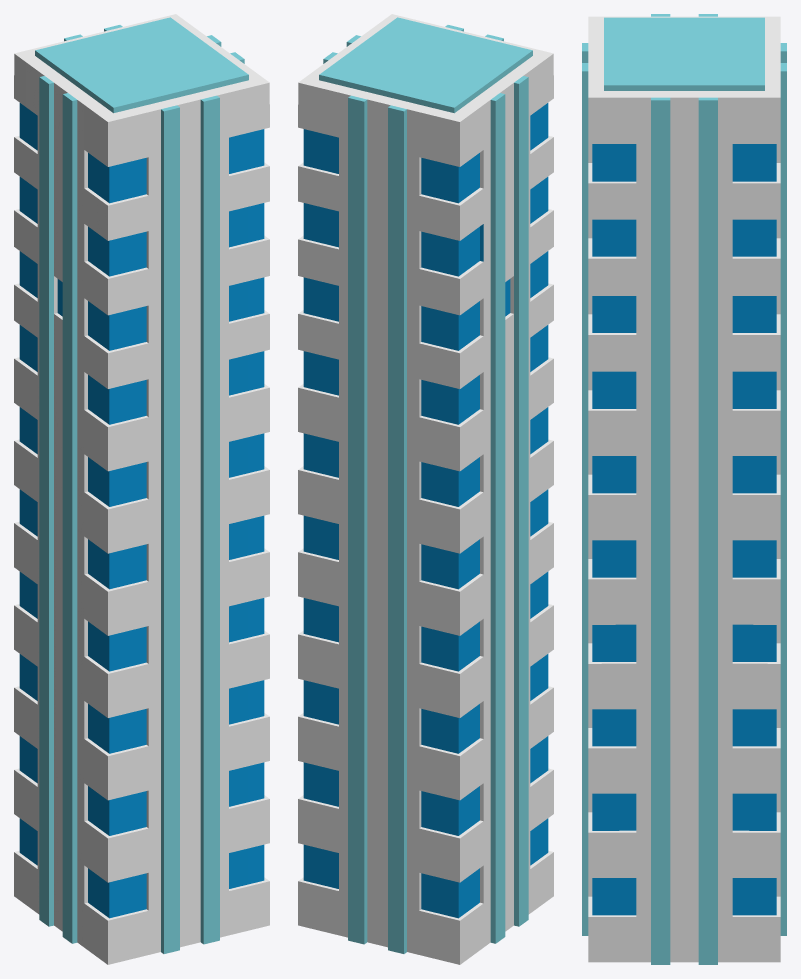
The model's file is Skyscrapper1.fbx.
The picture shows the model from 3 angles, left to right: view 1: azimuth 30°, elevation 25°; view 2: azimuth 150°, elevation 25°; view 3: azimuth 270°, elevation 25°; orthographic projection. The views are drawn at different scales.
Visible parts, largest first — view 1: Skyscrapper; view 2: Skyscrapper; view 3: Skyscrapper.
Part boxes in pixels (bbox=[...]): Skyscrapper: bbox=[14, 14, 269, 964]; Skyscrapper: bbox=[298, 14, 553, 964]; Skyscrapper: bbox=[582, 14, 786, 964].
Size of the model in its own units: 44.55 by 210 by 44.7.
